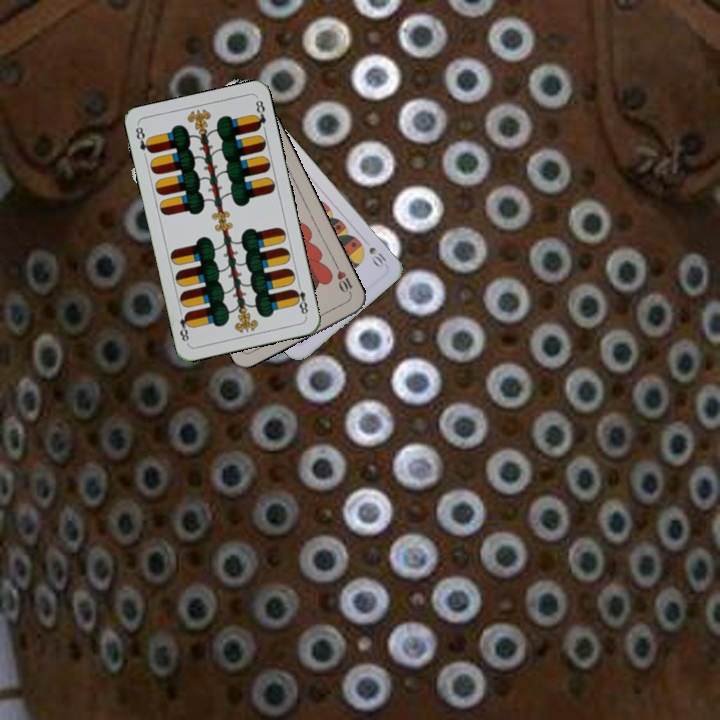E8: (289, 279, 310, 319), (131, 122, 155, 156)
H10: (331, 260, 355, 299)
S10: (365, 243, 389, 268)
